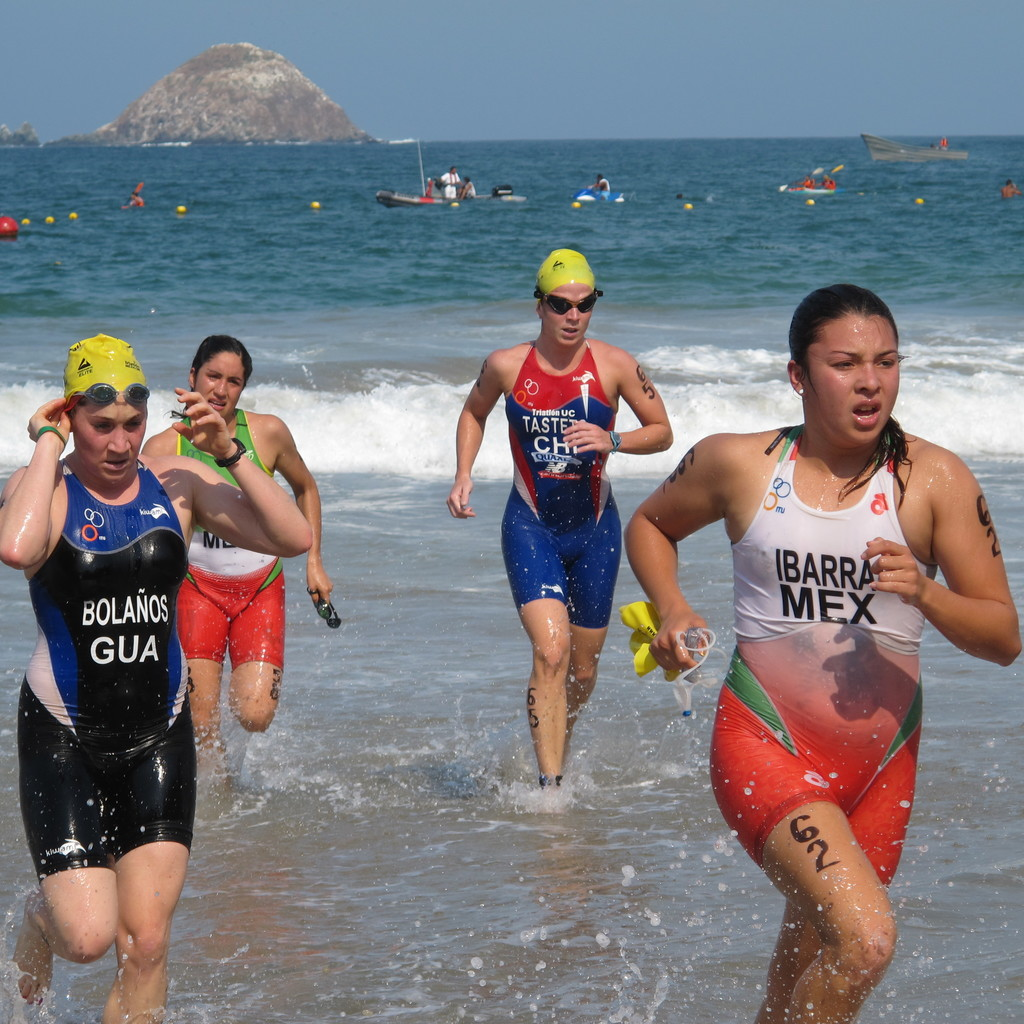Person: (625, 281, 1022, 1024), (0, 333, 311, 1024), (442, 245, 675, 787), (141, 335, 333, 774), (439, 167, 459, 199), (590, 173, 609, 201), (1000, 179, 1020, 195), (462, 176, 474, 195)
